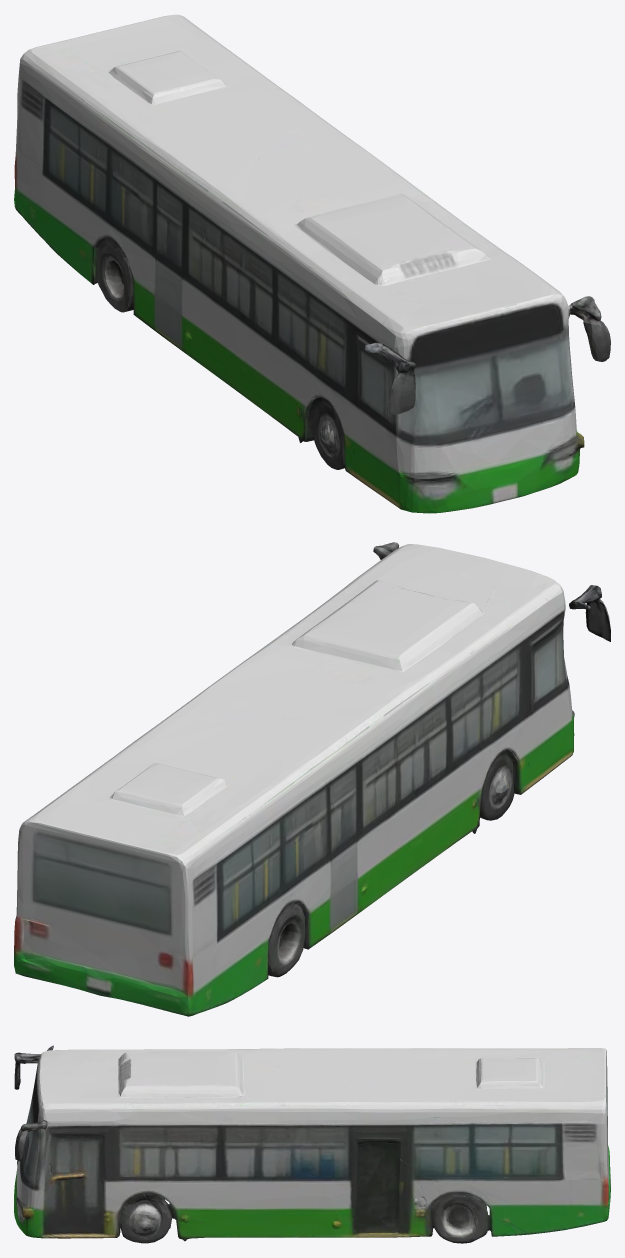
File: car_bus.glb
3 views of the same model, one above another, from view 1: azimuth 30°, elevation 25°; view 2: azimuth 150°, elevation 25°; view 3: azimuth 270°, elevation 25° (orthographic). The views are drawn at different scales.
Parts seen in each view (by area): view 1: geometry_0; view 2: geometry_0; view 3: geometry_0.
Part boxes in pixels (left/top/right/bottom): geometry_0: left=14, top=14, right=610, bottom=513; geometry_0: left=14, top=542, right=610, bottom=1016; geometry_0: left=14, top=1045, right=610, bottom=1243.
Bounding box in the file's own units: 0.3205 × 0.2673 × 0.9977.
1 material, 1 textured.
